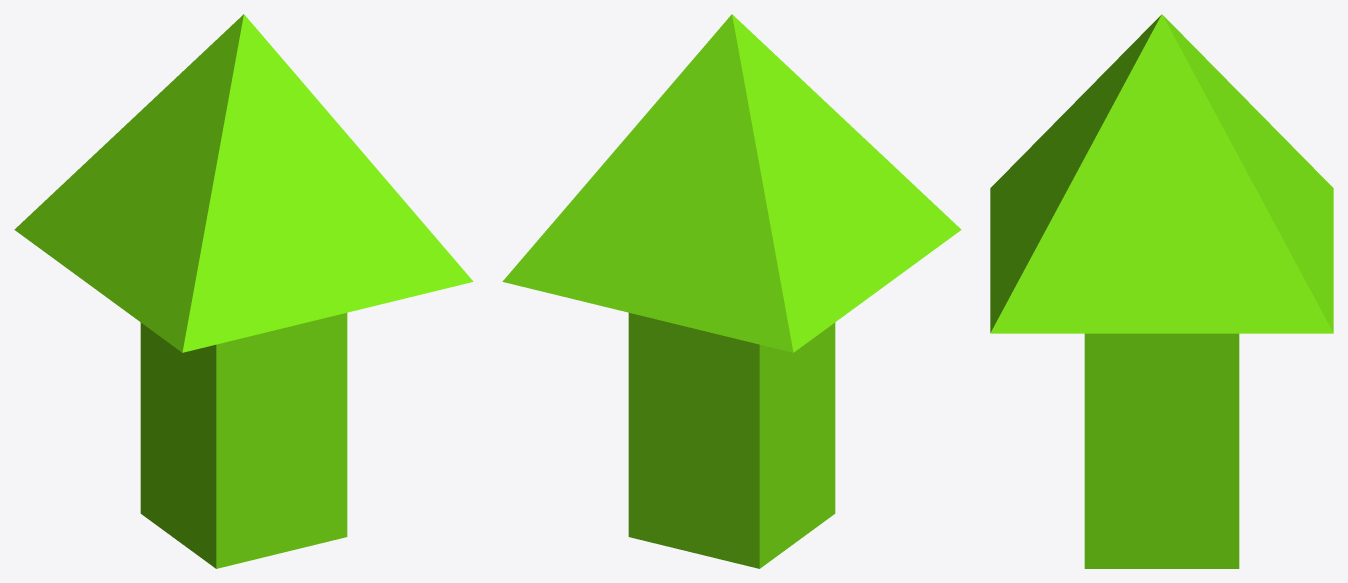
File: arrow.fbx
3 renders of one model, left to right at view 1: azimuth 30°, elevation 25°; view 2: azimuth 150°, elevation 25°; view 3: azimuth 270°, elevation 25°, orthographic. The views are drawn at different scales.
Parts seen in each view (by area): view 1: 金字塔, 立方体; view 2: 金字塔, 立方体; view 3: 金字塔, 立方体.
Part boxes in pixels (x1,y1,x2,y2): 金字塔: [14, 14, 473, 352]; 立方体: [140, 313, 347, 568]; 金字塔: [502, 14, 961, 352]; 立方体: [628, 313, 835, 568]; 金字塔: [990, 14, 1333, 333]; 立方体: [1084, 333, 1239, 568].
Size of the model in its own units: 200 by 335 by 200.
